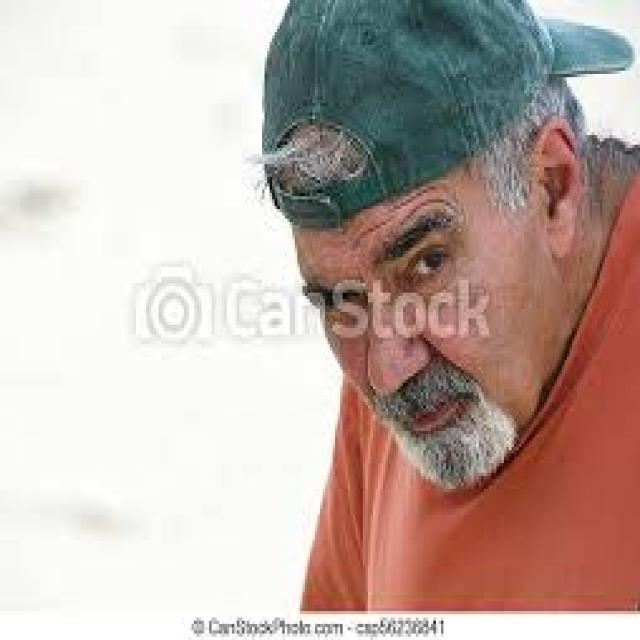cap: (244, 3, 640, 495)
